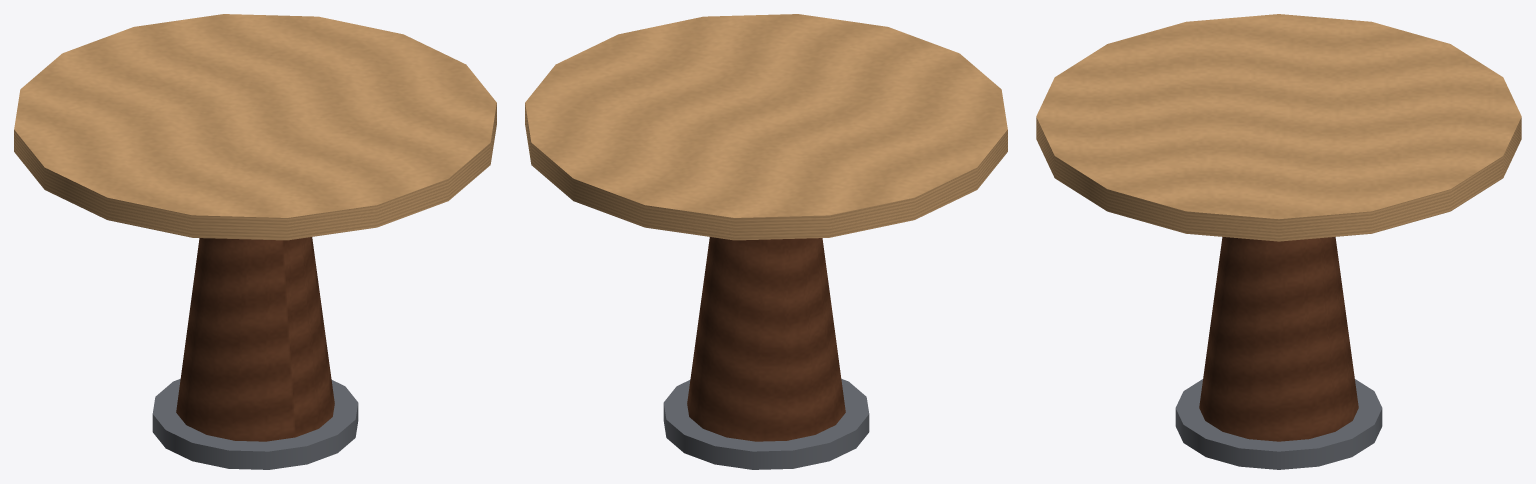
Rendered from pedestal_dining_oak.glb.
The picture shows the model from 3 angles, left to right: view 1: azimuth 30°, elevation 25°; view 2: azimuth 150°, elevation 25°; view 3: azimuth 270°, elevation 25°; orthographic projection.
Parts seen in each view (by area): view 1: pedestal_dining_oak_woodOak, pedestal_dining_oak_woodWalnut, pedestal_dining_oak_metalBlack; view 2: pedestal_dining_oak_woodOak, pedestal_dining_oak_woodWalnut, pedestal_dining_oak_metalBlack; view 3: pedestal_dining_oak_woodOak, pedestal_dining_oak_woodWalnut, pedestal_dining_oak_metalBlack.
Boxes of the visible parts, x1,y1,x2,y2 form: pedestal_dining_oak_woodOak: (14,14,496,240); pedestal_dining_oak_woodWalnut: (176,237,334,441); pedestal_dining_oak_metalBlack: (152,379,358,469); pedestal_dining_oak_woodOak: (525,14,1007,240); pedestal_dining_oak_woodWalnut: (687,237,845,441); pedestal_dining_oak_metalBlack: (663,379,869,469); pedestal_dining_oak_woodOak: (1036,14,1521,241); pedestal_dining_oak_woodWalnut: (1199,237,1358,441); pedestal_dining_oak_metalBlack: (1175,379,1382,469).
Size of what is drawn, in the model's own units: 1.08 by 0.76 by 1.08.
Materials: 3 (2 with a texture image).
